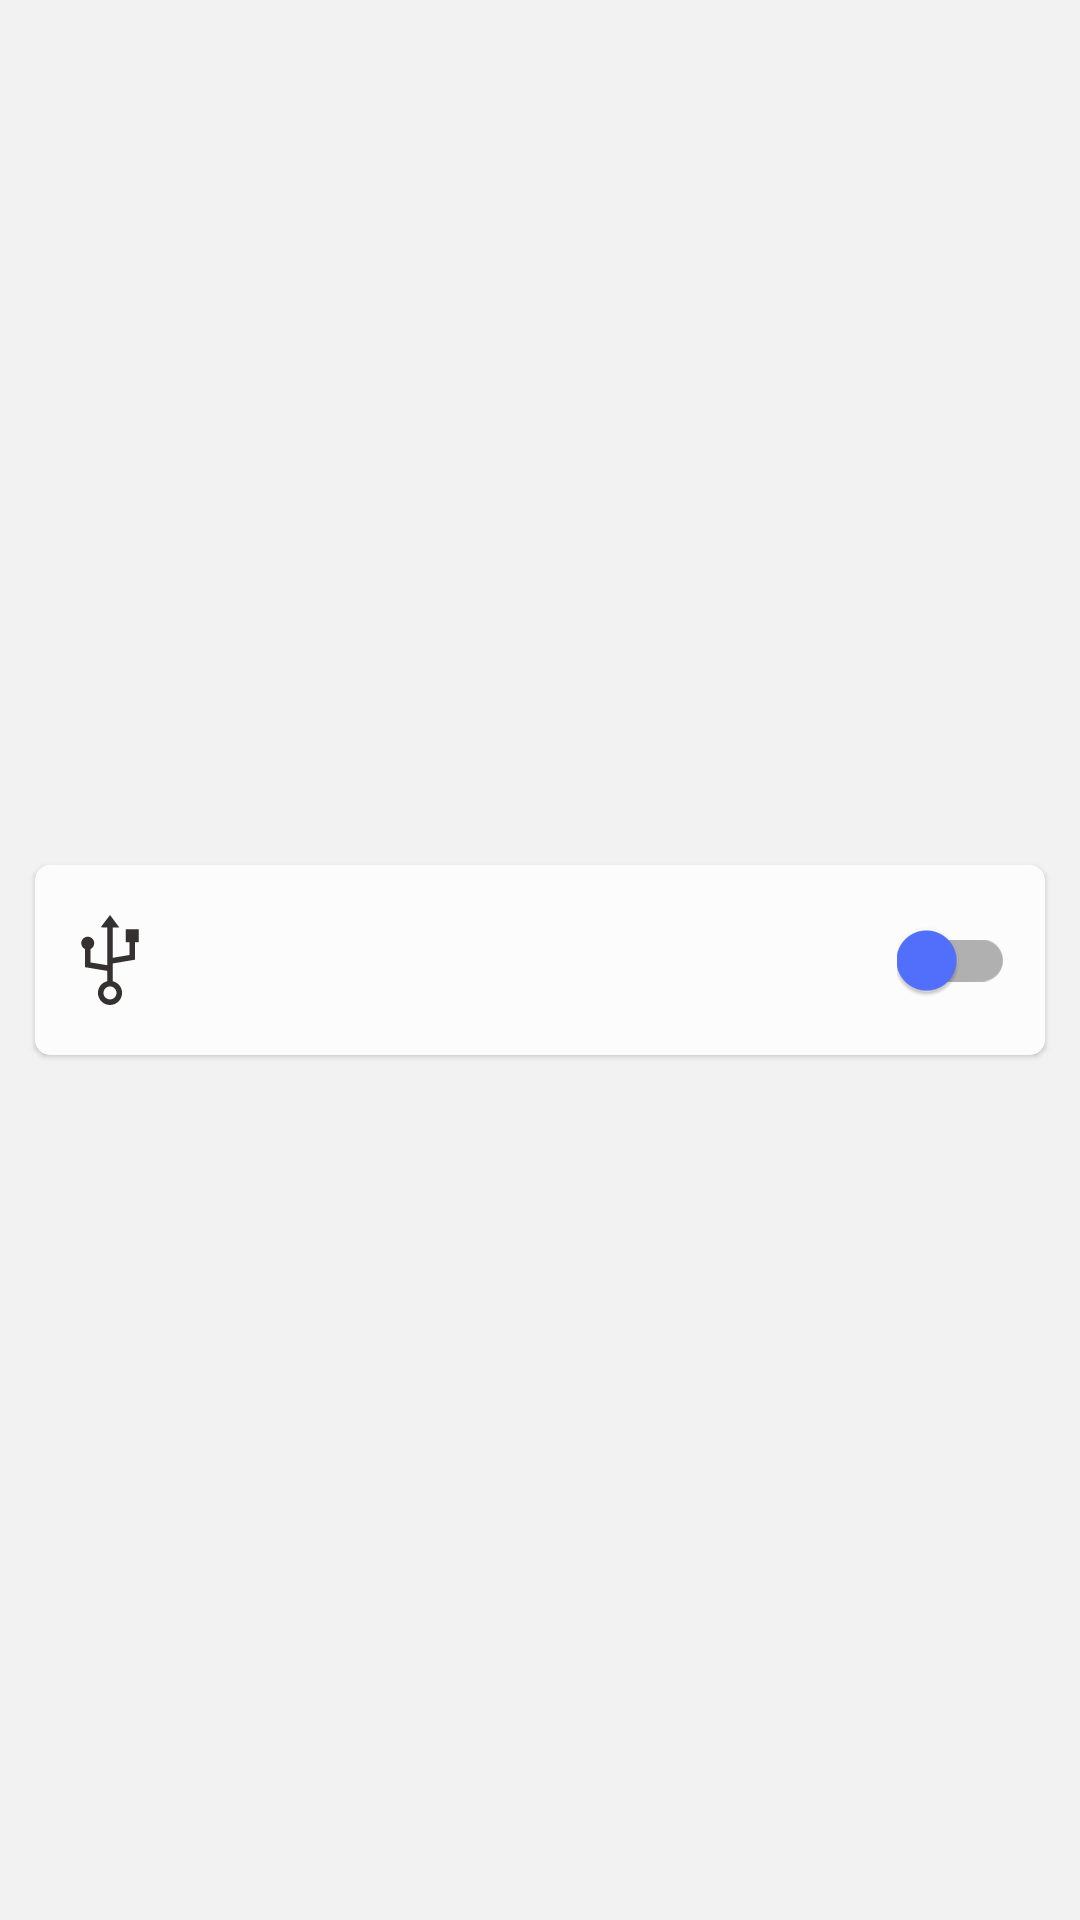

Where to tap for icons on this 1080 x 1920 app screen, as [x,y]:
usb: [110,960]
